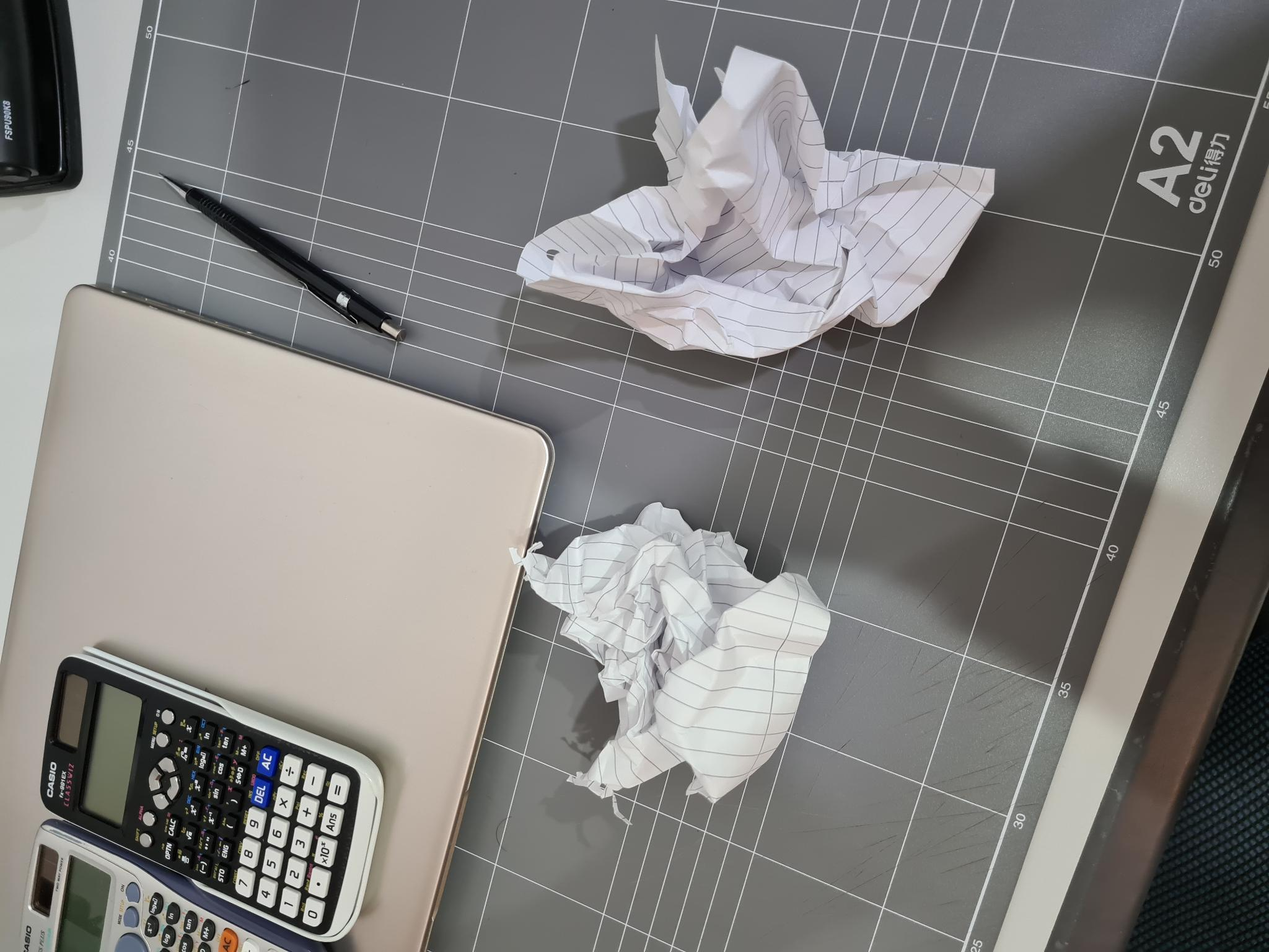Kertas: (598, 540, 775, 952), (138, 574, 445, 773)
